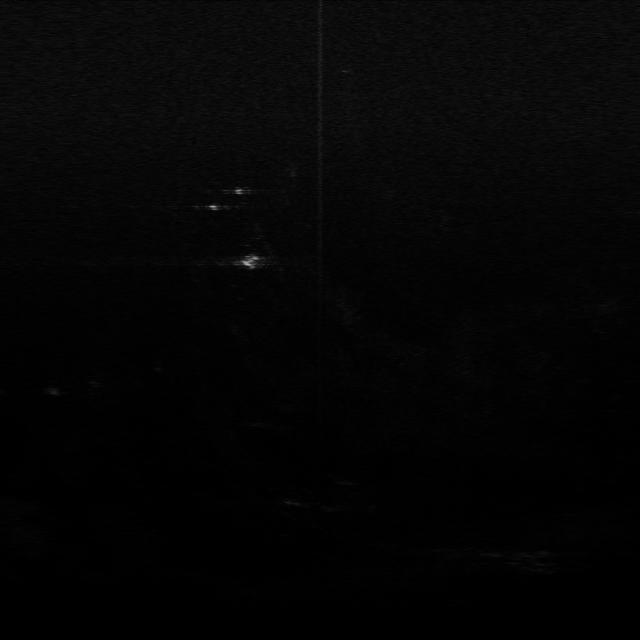rov: (232, 250, 268, 274)
